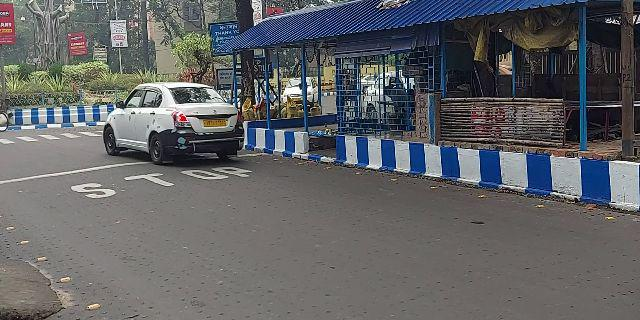Car: (99, 76, 248, 164)
